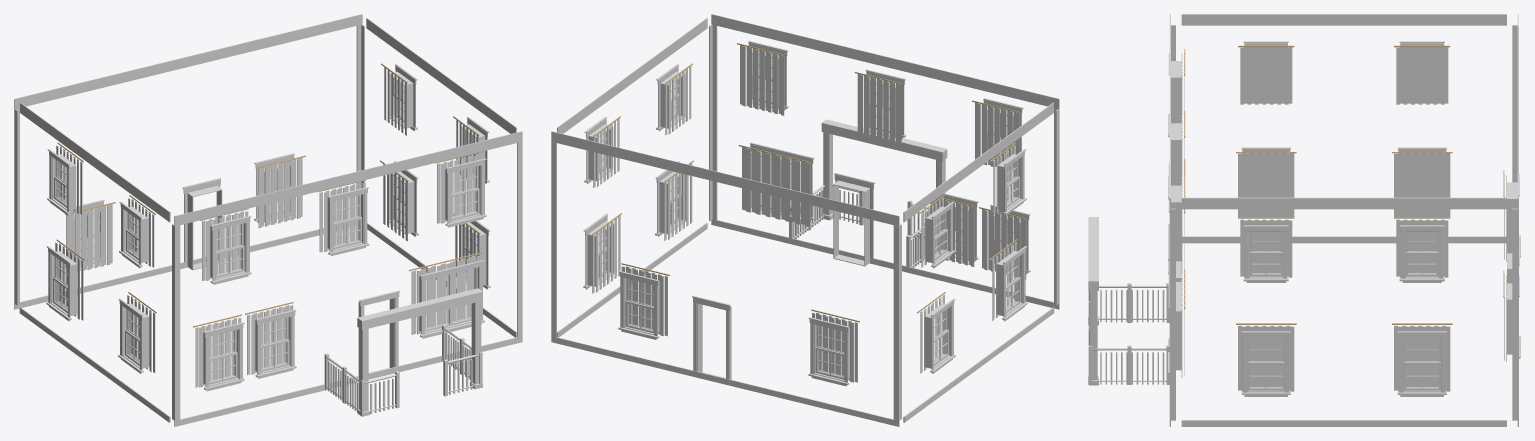
Rendered from SM_Town_House_Elm25_Trim.fbx.
3 renders of one model, left to right at view 1: azimuth 30°, elevation 25°; view 2: azimuth 150°, elevation 25°; view 3: azimuth 270°, elevation 25°, orthographic. The views are drawn at different scales.
Visible parts, largest first — view 1: SM_Town_House_Elm25_Trim_1; view 2: SM_Town_House_Elm25_Trim_1; view 3: SM_Town_House_Elm25_Trim_1.
Part boxes in pixels (x1=…): SM_Town_House_Elm25_Trim_1: x1=14, y1=14, x2=522, y2=426; SM_Town_House_Elm25_Trim_1: x1=551, y1=14, x2=1059, y2=426; SM_Town_House_Elm25_Trim_1: x1=1088, y1=14, x2=1520, y2=426.
Size of the model in its own units: 1013 by 582 by 996.
